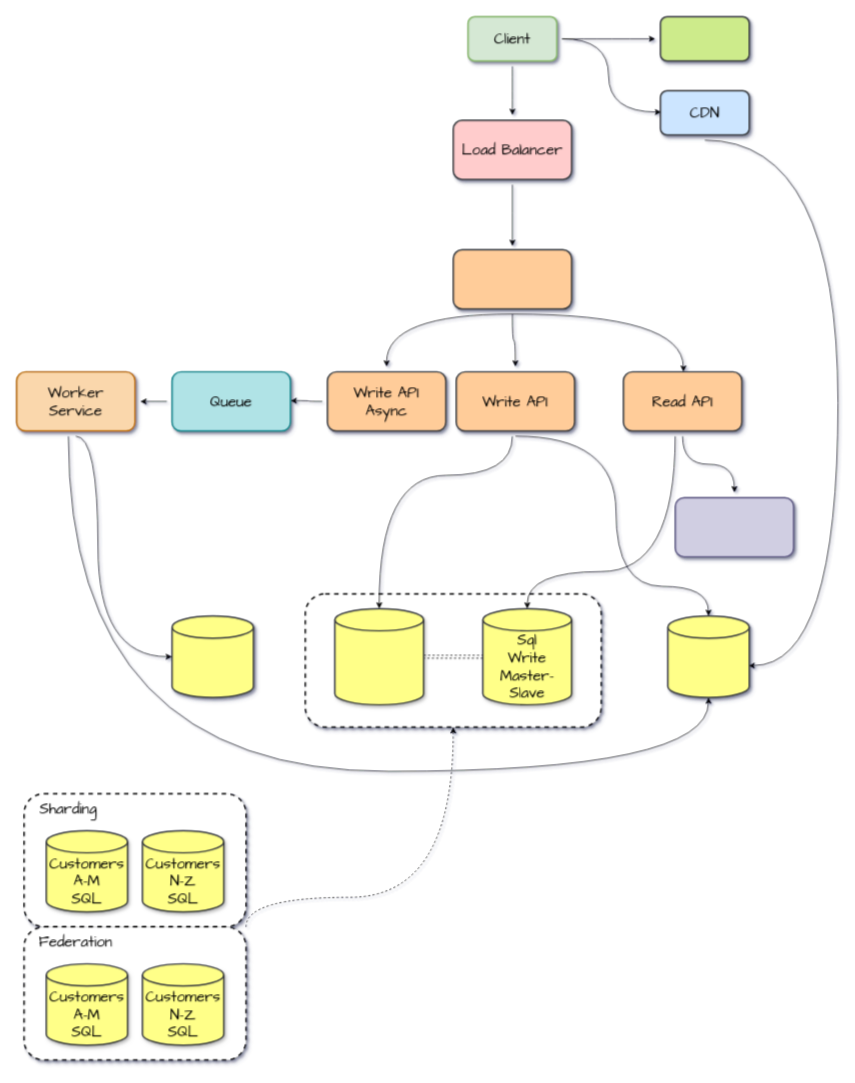
The diagram is 855 pixels wide and 1083 high, and some of its shapes have lost their labels. Here are the shapes that lost their labels. From the top down, the centre of each, then its label:
At [705,40]: "DNS".
At [512,280]: "Web Server".
At [734,528]: "Memory Cache".
At [213,657]: "NoSql".
At [379,657]: "Sql Read Replicas".
At [709,657]: "Object Store".
